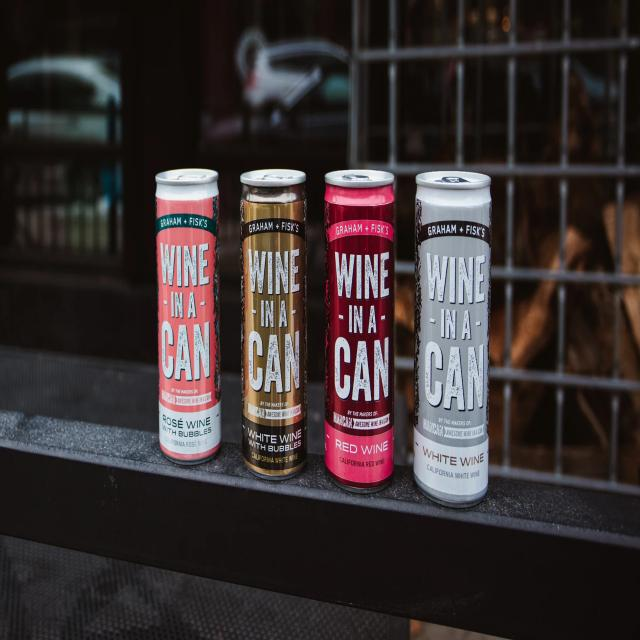can: (416, 172, 492, 502), (324, 168, 396, 494), (238, 170, 306, 480), (155, 167, 224, 462)
